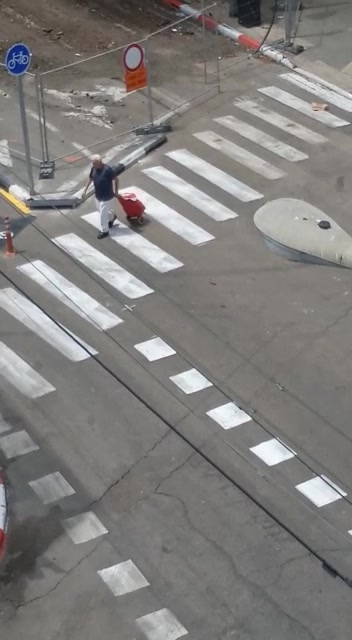crosswalk: (54, 64, 290, 340)
person: (76, 137, 147, 248)
